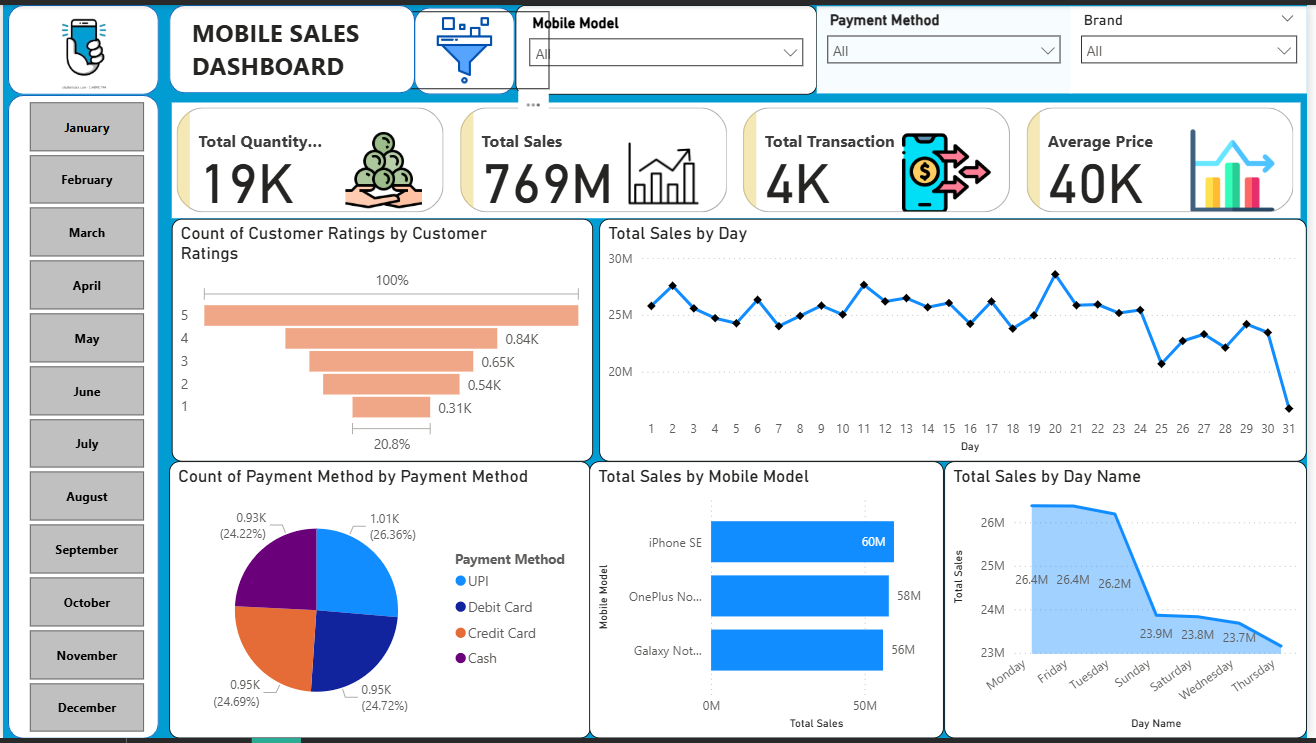

This screenshot's page, from the dashboard's own definition file:
{"tool":"powerbi","page":{"name":"Dashboard","canvas":[1280,720],"ordinal":0},"visuals":[{"type":"shape","box":[5.3,0,148,88],"z":0},{"type":"image","box":[26.7,0,105.3,88],"z":1000},{"type":"shape","box":[5.3,88,148,632],"z":3000},{"type":"slicer","fields":{"Values":["custom_calender.Custom_Date.Variation.Date Hierarchy.Month"]},"box":[0,88,162.7,632],"z":4000},{"type":"cardVisual","fields":{"Data":["sales_data.TQS","sales_data.T.SALES","sales_data.T.T","sales_data.AVG.Price"]},"box":[165.3,96,1108,113.3],"z":5000},{"type":"slicer","fields":{"Values":["sales_data.Mobile Model"]},"box":[502.7,0,296,88],"z":6000},{"type":"slicer","fields":{"Values":["sales_data.Payment Method"]},"box":[798.7,1.3,249.3,85.3],"z":7000},{"type":"slicer","fields":{"Values":["sales_data.Brand"]},"box":[1048,1.3,232,85.3],"z":8000},{"type":"shape","box":[404,2.7,98.7,85.3],"z":9000},{"type":"image","box":[370.7,6.7,165.3,77.3],"z":10000},{"type":"shape","box":[162.7,0,241.3,86.7],"z":11000},{"type":"textbox","box":[180,6.7,208,77.3],"z":12000},{"type":"lineChart","fields":{"Y":["sales_data.Total Sales"],"Category":["custom_calender.Custom_Date.Variation.Date Hierarchy.Day"]},"box":[585.3,209.3,694.7,238.7],"z":13000},{"type":"funnel","fields":{"Category":["sales_data.Customer Ratings"],"Y":["CountNonNull(sales_data.Customer Ratings)"]},"box":[165.3,209.3,413.3,238.7],"z":14000},{"type":"pieChart","fields":{"Category":["sales_data.Payment Method"],"Y":["CountNonNull(sales_data.Payment Method)"]},"box":[162.7,448,413.3,272],"z":15000},{"type":"clusteredBarChart","fields":{"Category":["sales_data.Mobile Model"],"Y":["sales_data.Total Sales"]},"box":[576,448,348,272],"z":16000},{"type":"stackedAreaChart","fields":{"Y":["sales_data.Total Sales"],"Category":["custom_calender.Day Name"]},"box":[924,448,356,272],"z":17000}]}

Visuals, with their boxes in screenshot pixels (x1, y1, x2, y2), scaled from the page's 1280x720 canvas onto the 1316x743 screenshot:
shape: [5, 0, 158, 91]
image: [27, 0, 136, 91]
shape: [5, 91, 158, 742]
slicer - custom_calender.Custom_Date.Variation.Date Hierarchy.Month: [0, 91, 167, 742]
cardVisual - sales_data.TQS x sales_data.T.SALES: [170, 99, 1309, 216]
slicer - sales_data.Mobile Model: [517, 0, 821, 91]
slicer - sales_data.Payment Method: [821, 1, 1077, 89]
slicer - sales_data.Brand: [1077, 1, 1315, 89]
shape: [415, 3, 517, 91]
image: [381, 7, 551, 87]
shape: [167, 0, 415, 89]
textbox: [185, 7, 399, 87]
lineChart - sales_data.Total Sales x custom_calender.Custom_Date.Variation.Date Hierarchy.Day: [602, 216, 1315, 462]
funnel - sales_data.Customer Ratings x CountNonNull(sales_data.Customer Ratings): [170, 216, 595, 462]
pieChart - sales_data.Payment Method x CountNonNull(sales_data.Payment Method): [167, 462, 592, 742]
clusteredBarChart - sales_data.Mobile Model x sales_data.Total Sales: [592, 462, 950, 742]
stackedAreaChart - sales_data.Total Sales x custom_calender.Day Name: [950, 462, 1315, 742]
